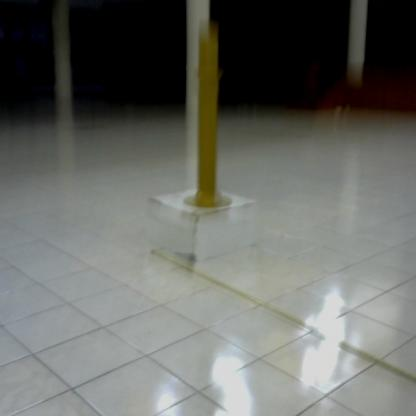pole: (178, 16, 246, 214)
